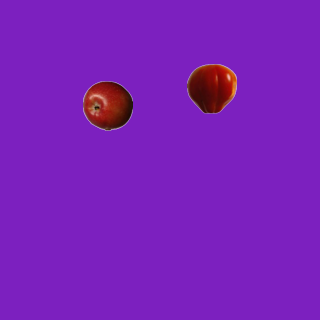Apple Braeburn: (82, 80, 132, 130)
Tomato 1: (186, 63, 236, 113)
